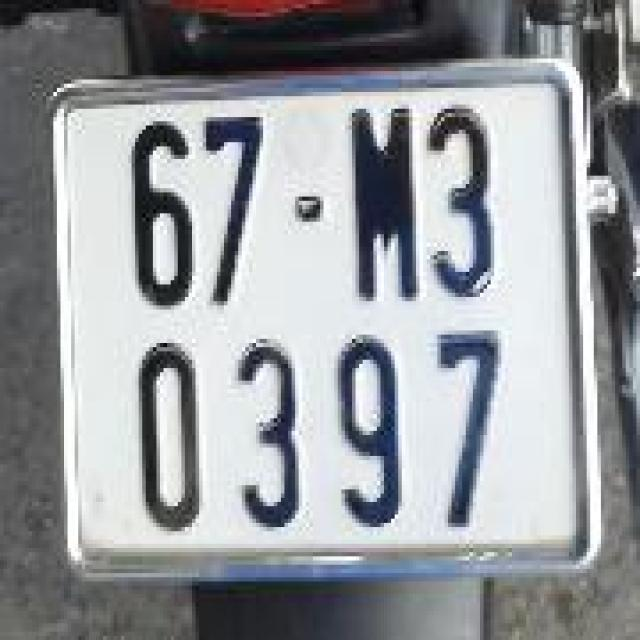0: (132, 334, 214, 544)
3: (231, 330, 313, 536), (425, 99, 507, 304)
6: (118, 113, 196, 318)
7: (428, 320, 511, 529), (203, 102, 277, 316)
9: (326, 324, 422, 542)
M: (341, 99, 423, 308)
